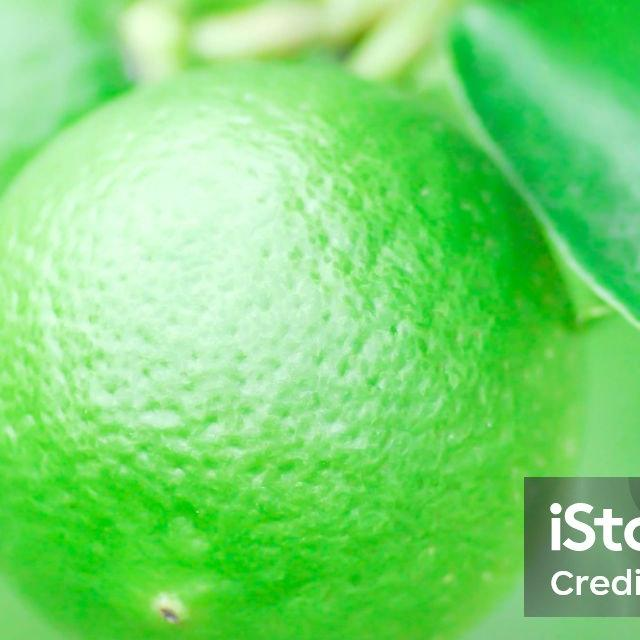lime: (0, 59, 594, 640)
